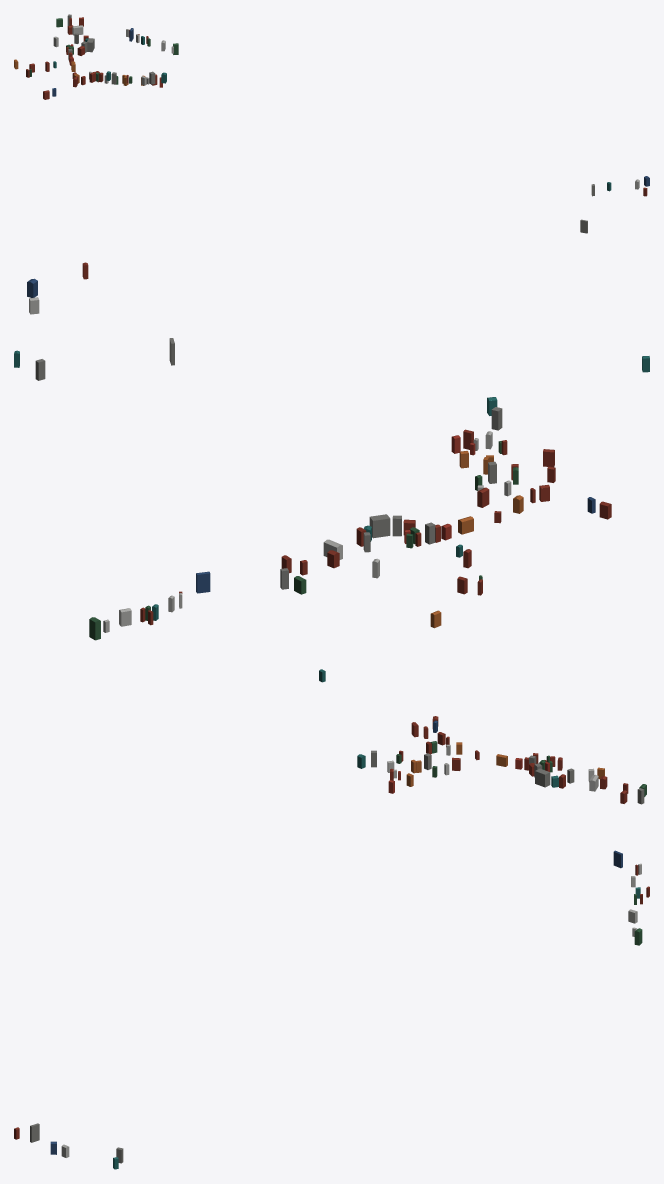
File: near-15-27365-14865.16c1a18b.glb
The picture shows the model from 3 angles, top to bottom: view 1: azimuth 30°, elevation 25°; view 2: azimuth 150°, elevation 25°; view 3: azimuth 270°, elevation 25°; orthographic projection. The views are drawn at different scales.
Bounding box in the file's own units: 1153 × 409 × 1025.
